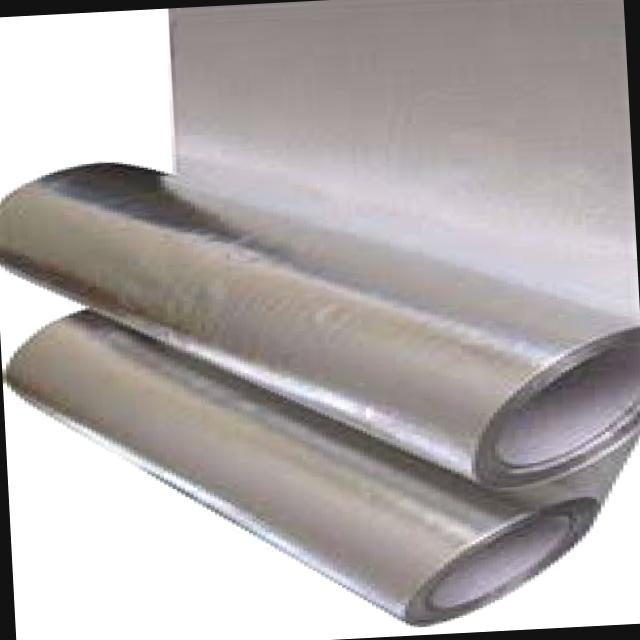metal: (0, 165, 639, 485), (7, 313, 623, 625), (172, 0, 635, 322)
